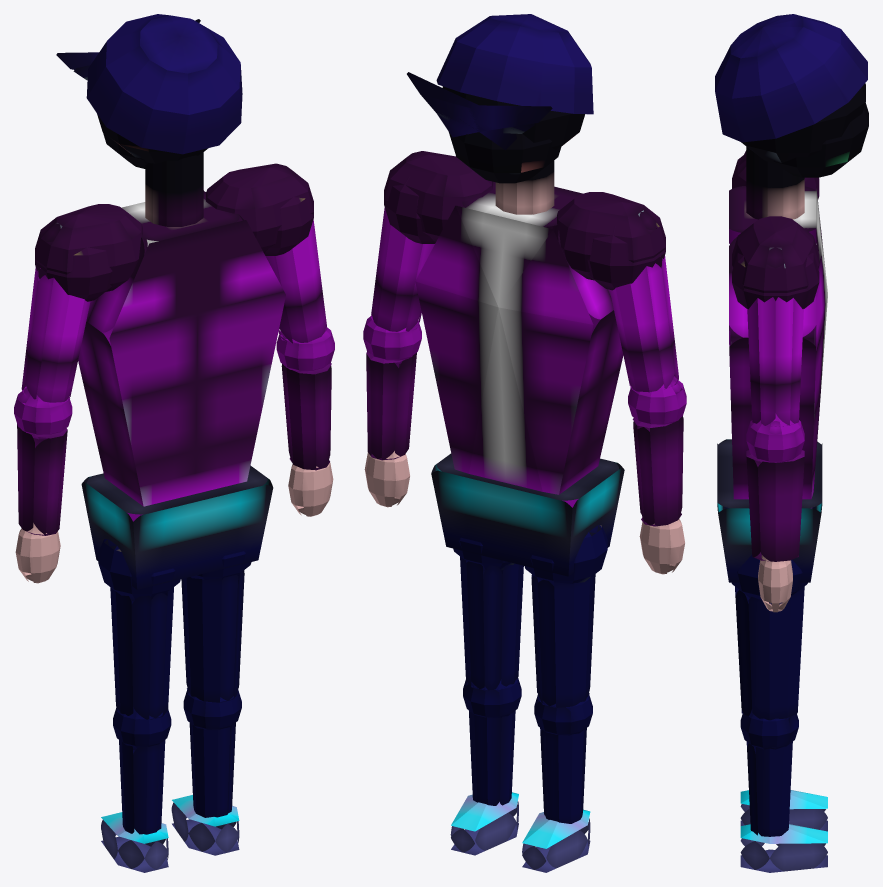
File: character.fbx
3 renders of one model, left to right at view 1: azimuth 30°, elevation 25°; view 2: azimuth 150°, elevation 25°; view 3: azimuth 270°, elevation 25°, orthographic.
Parts seen in each view (by area): view 1: tors, gorr, braz2, caders, hombr1, gluts2, gluts2_1, cod, cod_1, rodil, rodil_1, cuell (+4 smaller); view 2: tors, gorr, braz2, caders, hombr1, gluts2, gluts2_1, cod, cod_1, rodil_1, rodil, pie_1 (+4 smaller); view 3: gorr, hombr1, tors, gluts2_1, cod_1, rodil_1, caders, pie_1, cuell, pie, man_1, braz2.
Part boxes in pixels (<box>): tors: <box>78,190,285,521</box>; gorr: <box>56,14,242,168</box>; braz2: <box>21,204,147,402</box>; caders: <box>81,465,273,589</box>; hombr1: <box>206,163,326,343</box>; gluts2: <box>98,539,180,719</box>; gluts2_1: <box>181,551,251,702</box>; cod: <box>14,387,72,535</box>; cod_1: <box>276,327,334,470</box>; rodil: <box>113,707,171,834</box>; rodil_1: <box>183,689,241,817</box>; cuell: <box>145,152,203,226</box>; tors: <box>415,181,623,507</box>; gorr: <box>407,14,593,183</box>; braz2: <box>553,192,678,392</box>; caders: <box>431,453,624,576</box>; hombr1: <box>370,151,492,332</box>; gluts2: <box>524,525,607,707</box>; gluts2_1: <box>453,537,523,690</box>; cod: <box>628,377,686,526</box>; cod_1: <box>363,316,421,460</box>; rodil_1: <box>463,678,521,805</box>; rodil: <box>534,694,592,823</box>; pie_1: <box>450,792,518,855</box>; gorr: <box>715,14,868,177</box>; hombr1: <box>732,216,819,426</box>; tors: <box>729,186,827,508</box>; gluts2_1: <box>731,555,813,720</box>; cod_1: <box>746,413,804,561</box>; rodil_1: <box>740,709,798,836</box>; caders: <box>717,439,822,582</box>; pie_1: <box>740,824,827,872</box>; cuell: <box>746,147,804,219</box>; pie: <box>740,790,827,831</box>; man_1: <box>758,555,792,612</box>; braz2: <box>732,150,819,199</box>.
Bounding box in the file's own units: 38.75 × 97.12 × 16.49.
Materials: 1 (1 with a texture image).
